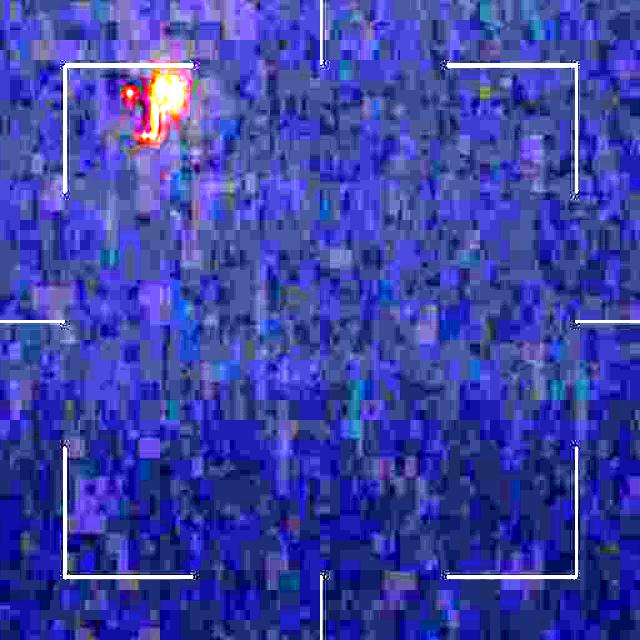bird: (116, 65, 185, 154)
